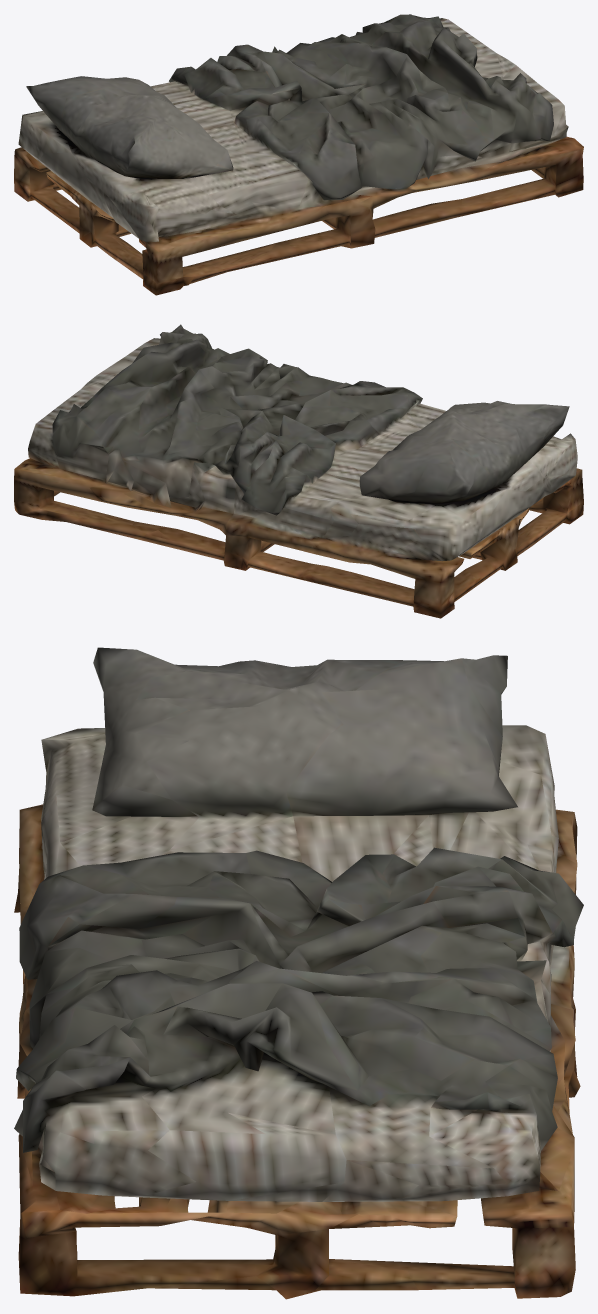
The model's file is bb_bed.2b76e7f32a.glb.
3 views of the same model, one above another, from view 1: azimuth 30°, elevation 25°; view 2: azimuth 150°, elevation 25°; view 3: azimuth 270°, elevation 25° (orthographic). The views are drawn at different scales.
Visible parts, largest first — view 1: bb_bed; view 2: bb_bed; view 3: bb_bed.
Part boxes in pixels (bbox=[...]): bb_bed: bbox=[14, 14, 583, 295]; bb_bed: bbox=[14, 324, 583, 618]; bb_bed: bbox=[14, 647, 583, 1299].
Size of the model in its own units: 2 by 0.5943 by 1.17.
1 material, 1 textured.
